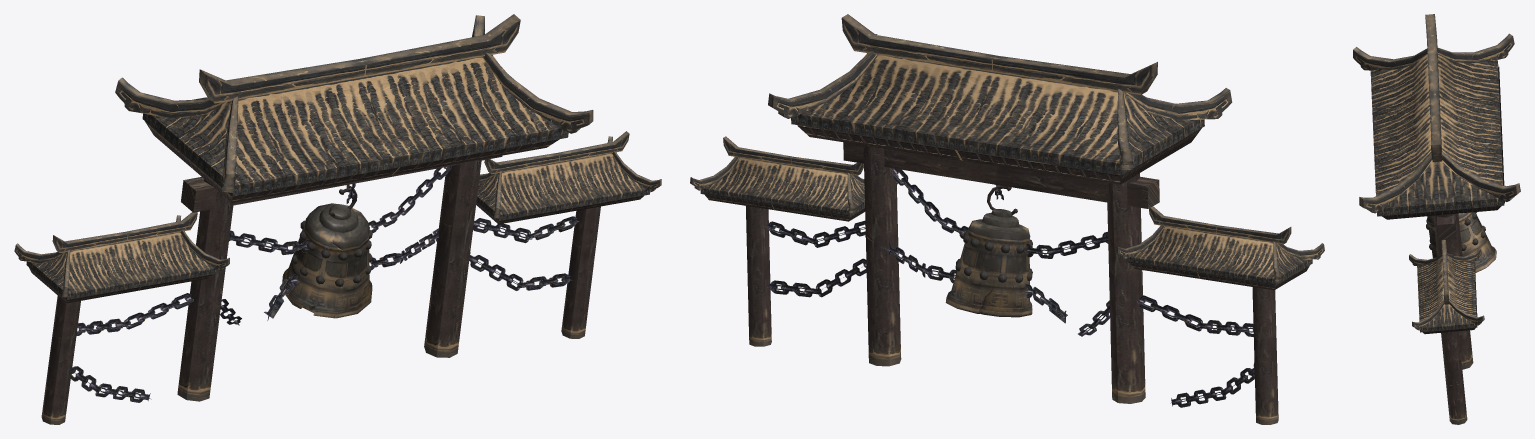
File: sm_diaozhong_1.FBX
3 views of the same model, side by side, from view 1: azimuth 30°, elevation 25°; view 2: azimuth 150°, elevation 25°; view 3: azimuth 270°, elevation 25° (orthographic). The views are drawn at different scales.
Visible parts, largest first — view 1: sm_diaozhong_1; view 2: sm_diaozhong_1; view 3: sm_diaozhong_1.
Boxes of the visible parts, x1,y1,x2,y2 form: sm_diaozhong_1: (14, 14, 661, 424); sm_diaozhong_1: (690, 14, 1324, 424); sm_diaozhong_1: (1353, 14, 1520, 424).
Bounding box in the file's own units: 2602 × 1528 × 862.
